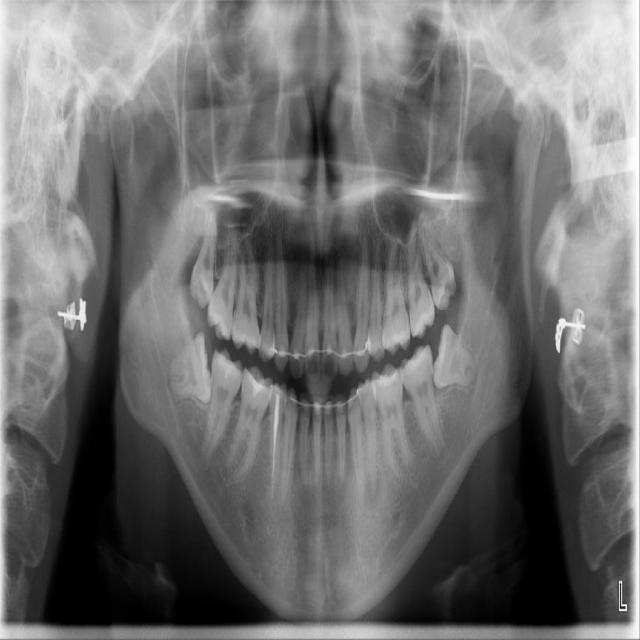3M ESPE Implant: (189, 208, 217, 308)
73: (264, 410, 284, 499), (604, 584, 626, 586)
BioHorizons Implant: (403, 220, 436, 340)
BioLife Implant: (415, 211, 462, 312)
Biomet 3i Implant: (427, 324, 487, 399)
Blue Sky Bio Implant: (396, 344, 449, 463)
Caries: (204, 235, 242, 341)
Implant: (202, 347, 245, 462)
Keystone Dental Implant: (165, 331, 213, 407)
